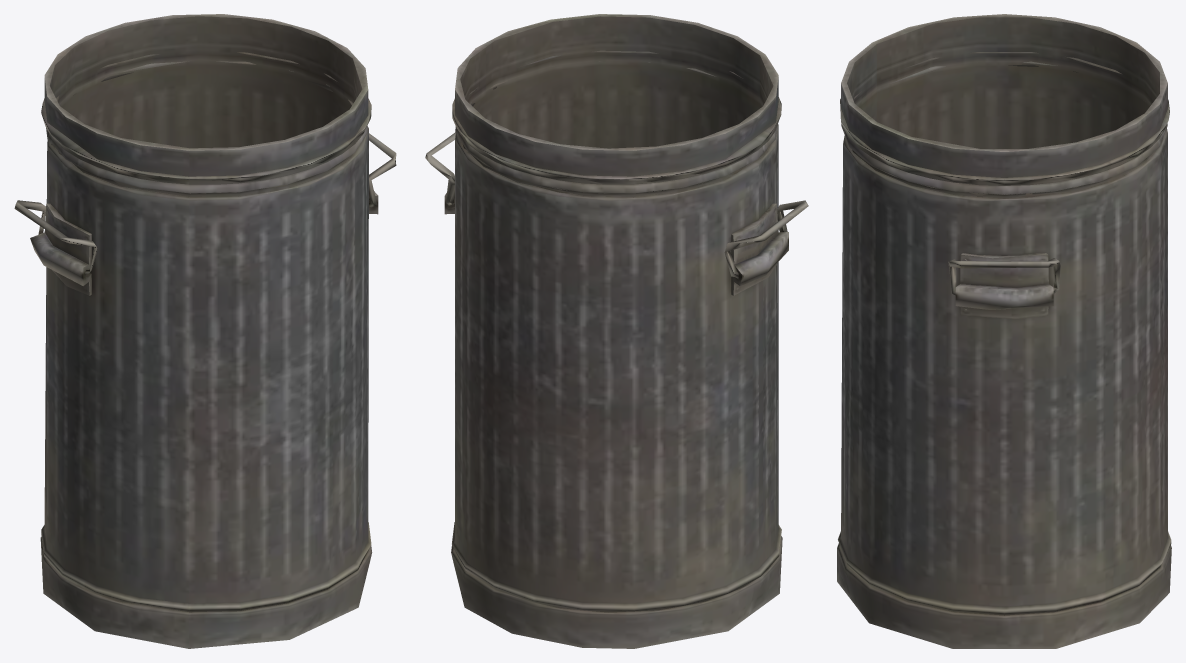
The model's file is caneca.glb.
3 renders of one model, left to right at view 1: azimuth 30°, elevation 25°; view 2: azimuth 150°, elevation 25°; view 3: azimuth 270°, elevation 25°, orthographic.
Parts seen in each view (by area): view 1: caneca; view 2: caneca; view 3: caneca.
Part boxes in pixels (x1,y1,x2,y2): caneca: (14,14,396,648); caneca: (425,14,808,648); caneca: (837,14,1171,648).
Bounding box in the file's own units: 0.6494 × 0.9062 × 0.5514.
1 material, 1 textured.
